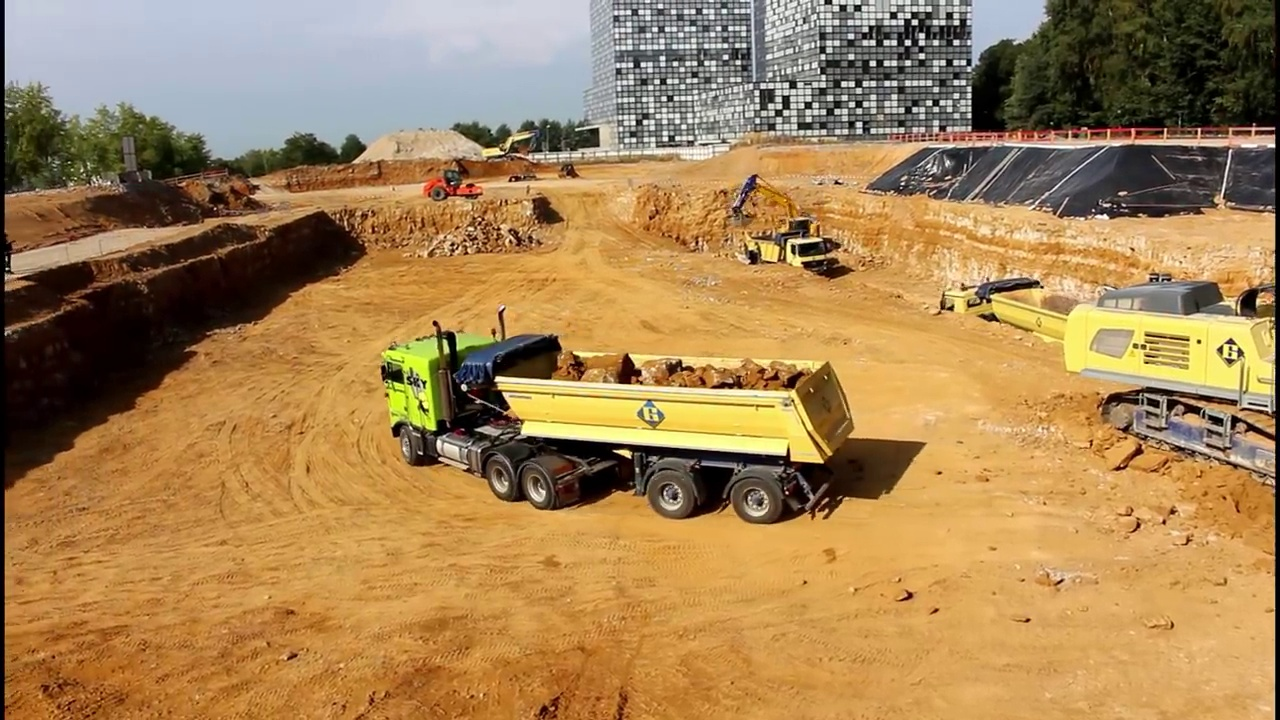compactor: (420, 169, 486, 203)
excavator: (1058, 265, 1280, 492), (726, 171, 824, 265), (479, 128, 538, 164)
truck: (372, 305, 858, 531), (936, 275, 1113, 371), (740, 220, 834, 283)
